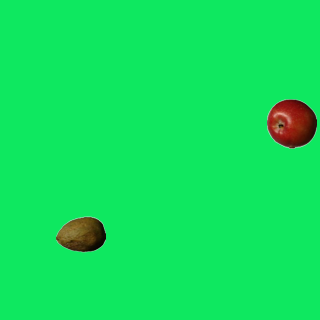Apple Braeburn: (266, 98, 316, 148)
Papaya: (55, 209, 105, 259)
